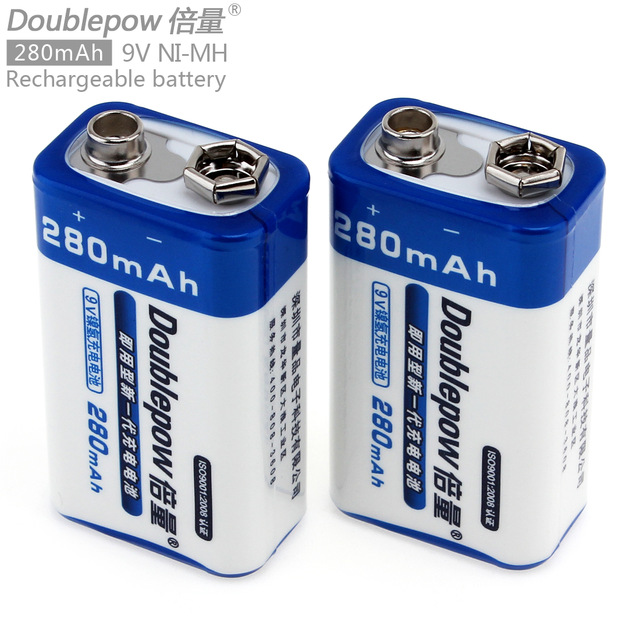9V: (319, 87, 605, 574), (31, 100, 318, 582)
